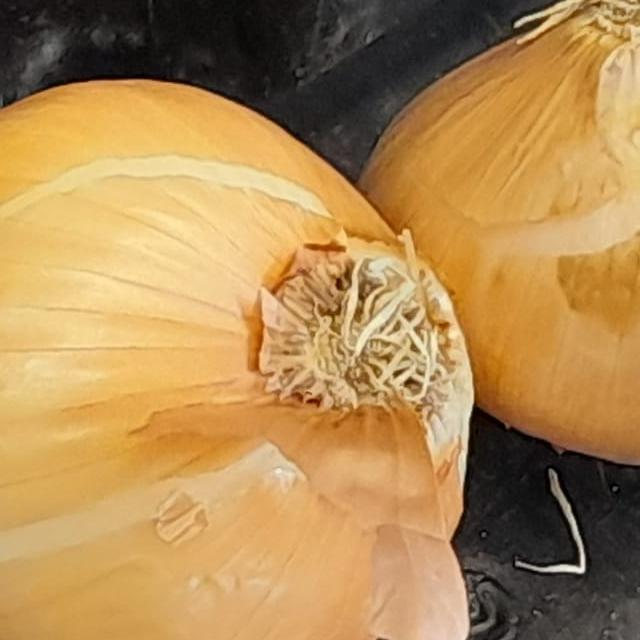onion: (0, 35, 502, 640), (352, 0, 640, 480)
